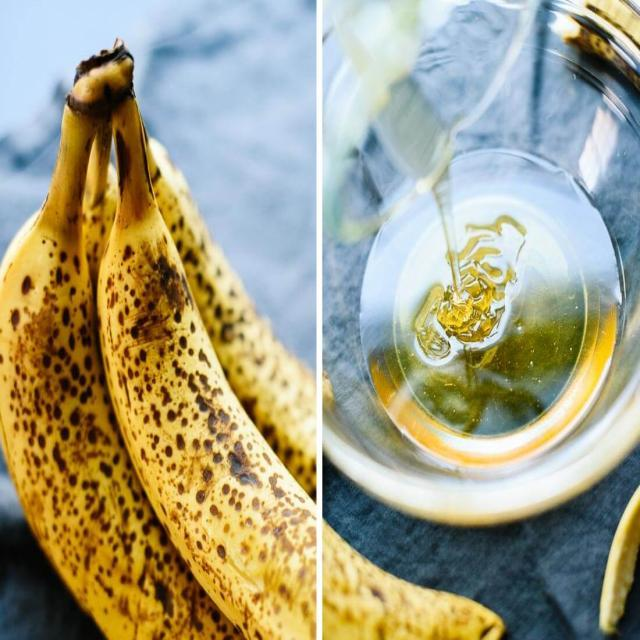banana: (98, 199, 500, 639), (2, 199, 252, 639)
